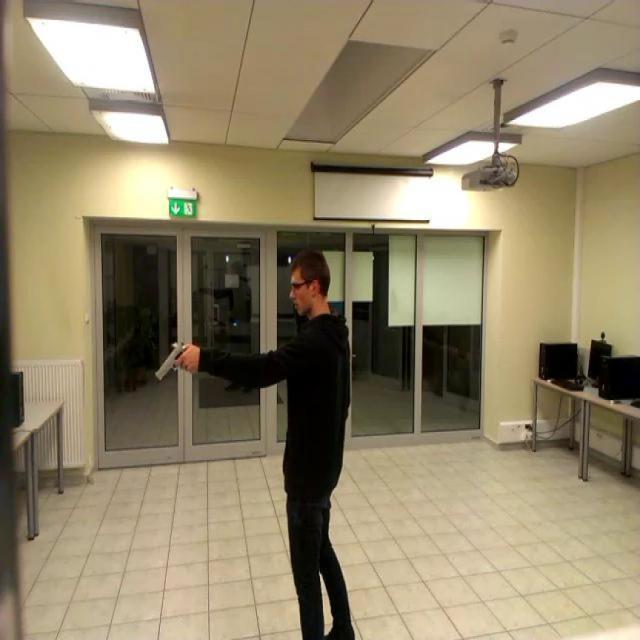pistol: (157, 341, 192, 378)
